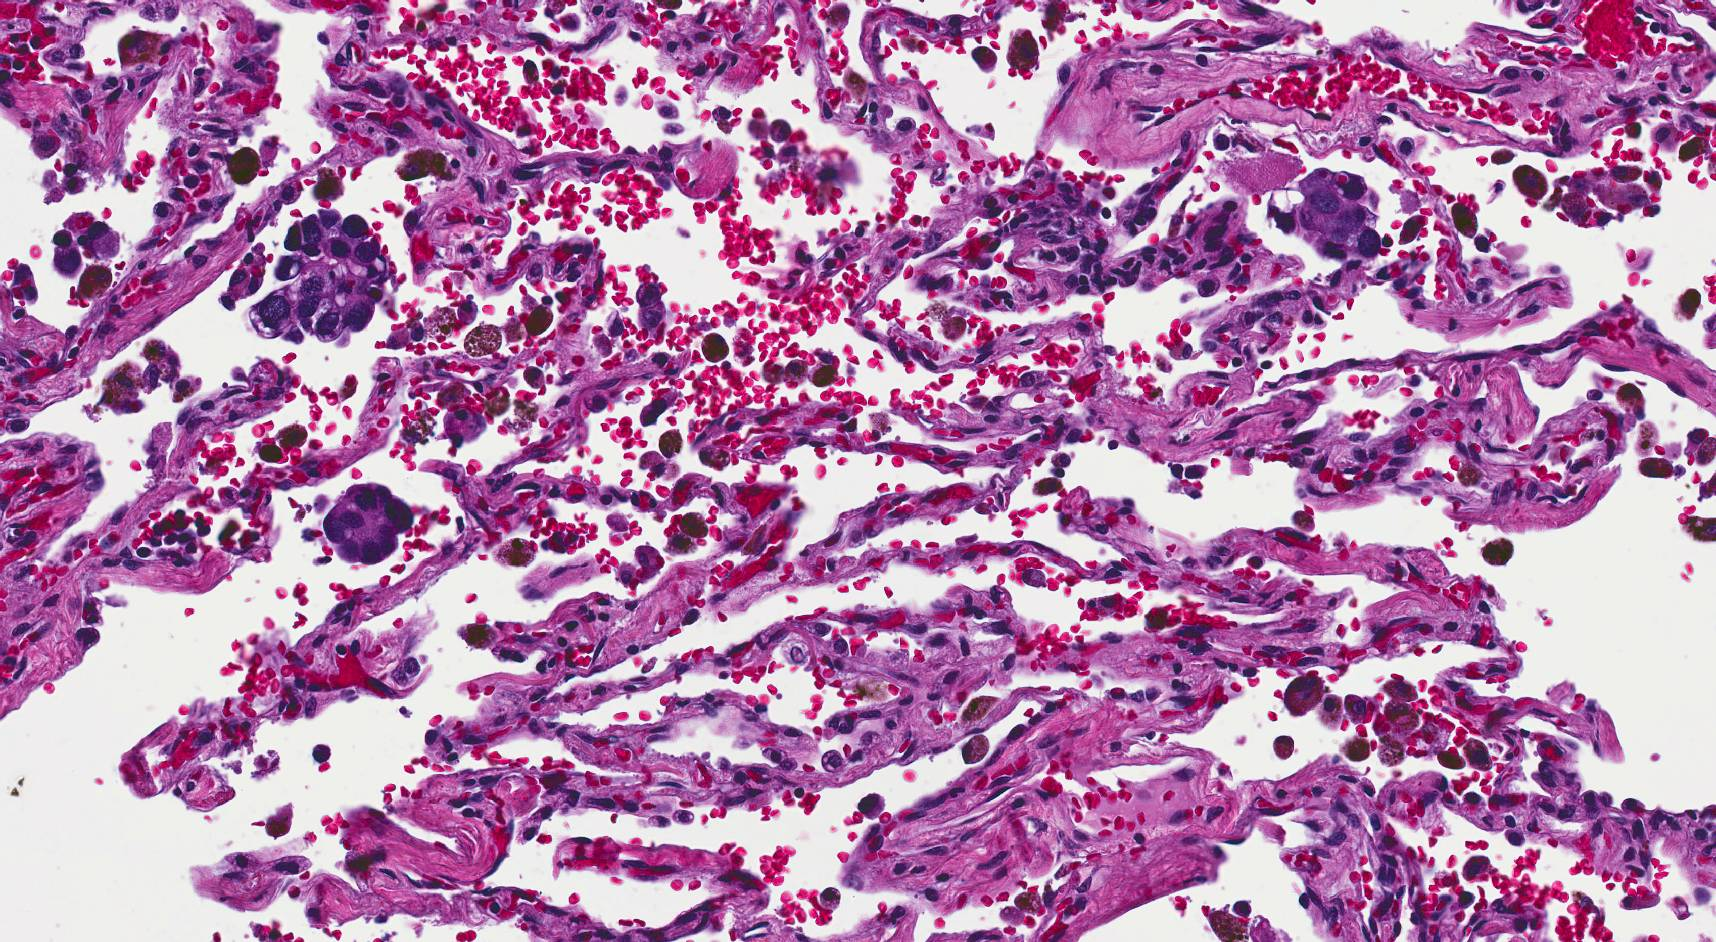stas: (247, 207, 394, 344), (1263, 168, 1383, 261), (322, 482, 411, 565)
